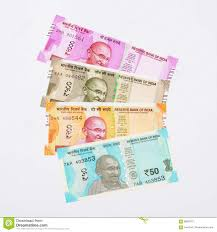fifty: (60, 151, 175, 187)
